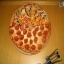pizza: (10, 2, 48, 57)
